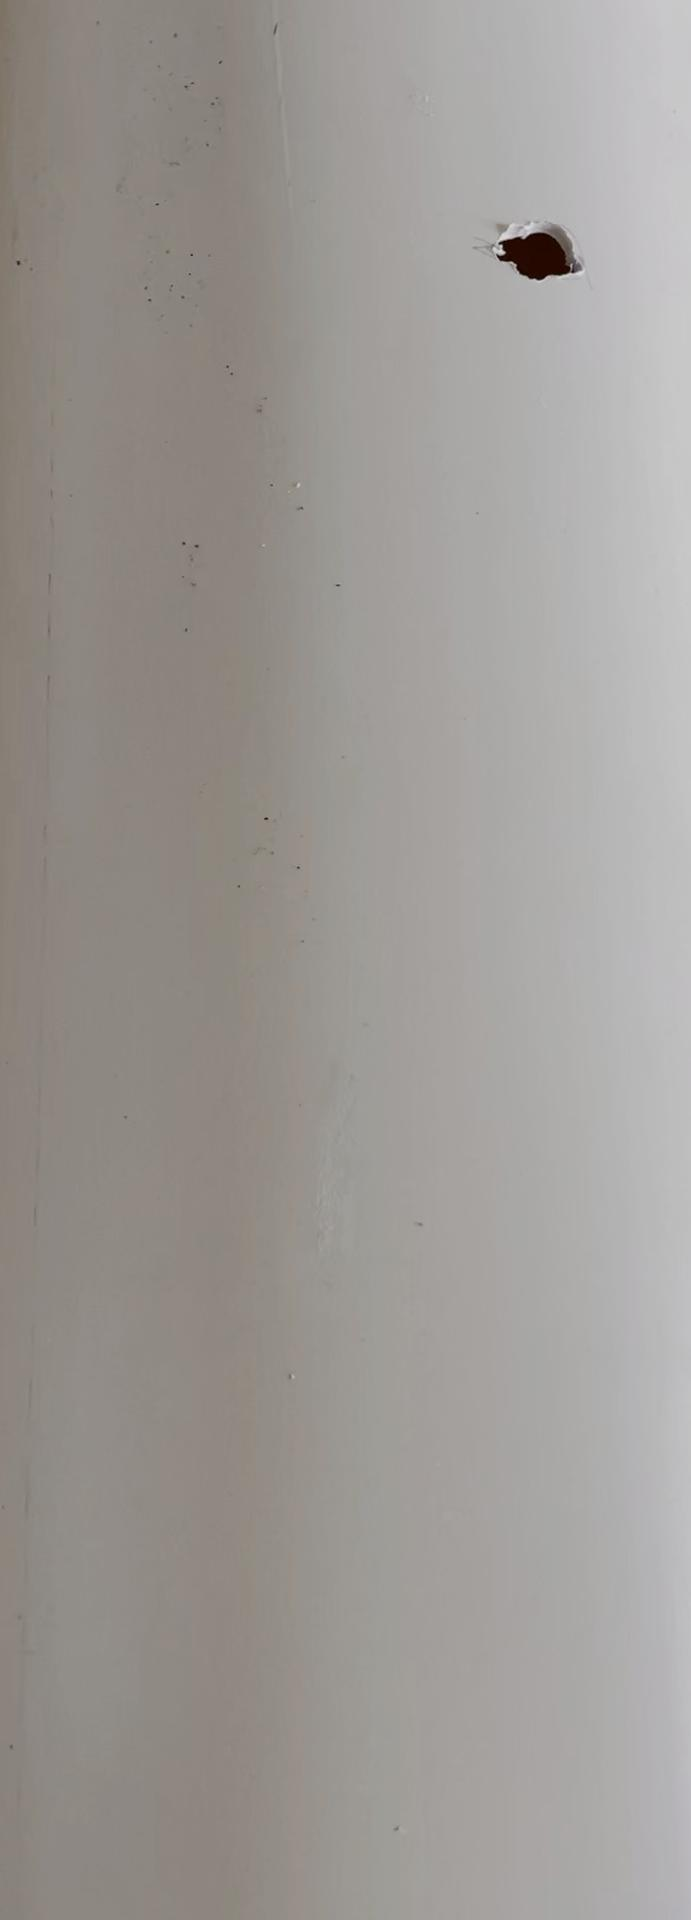kongdong: (488, 211, 588, 304)
